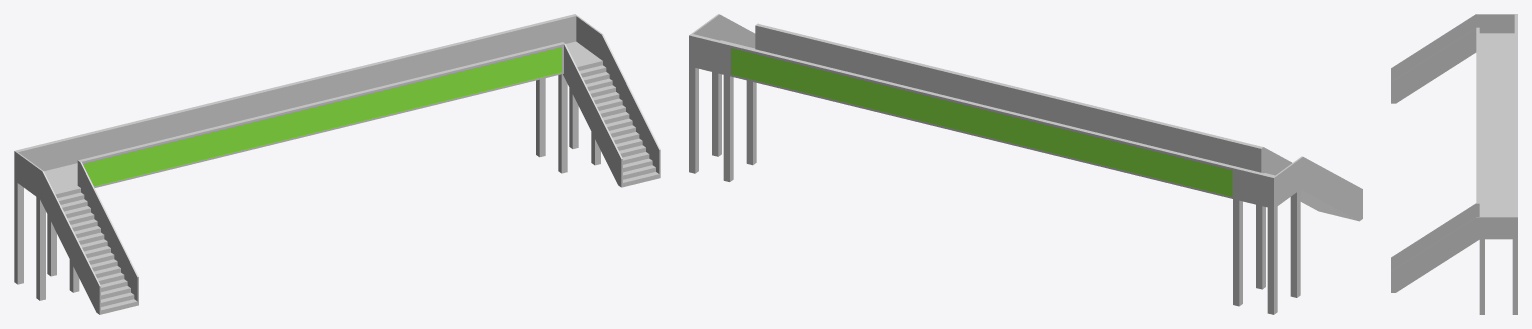
The model's file is Race_Bridge_1.fbx.
3 renders of one model, left to right at view 1: azimuth 30°, elevation 25°; view 2: azimuth 150°, elevation 25°; view 3: azimuth 270°, elevation 25°, orthographic. The views are drawn at different scales.
Parts seen in each view (by area): view 1: Race_Bridge_1; view 2: Race_Bridge_1; view 3: Race_Bridge_1.
Part boxes in pixels (x1,y1,x2,y2): Race_Bridge_1: (14,14,660,314); Race_Bridge_1: (689,14,1362,314); Race_Bridge_1: (1391,14,1517,314).
Size of the model in its own units: 2774 by 620 by 732.
